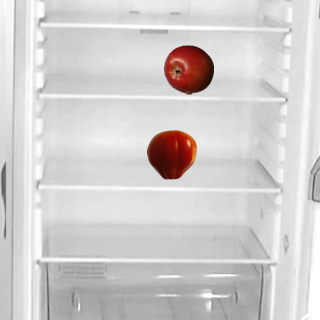Apple Braeburn: (163, 44, 213, 94)
Tomato 1: (146, 129, 196, 179)
